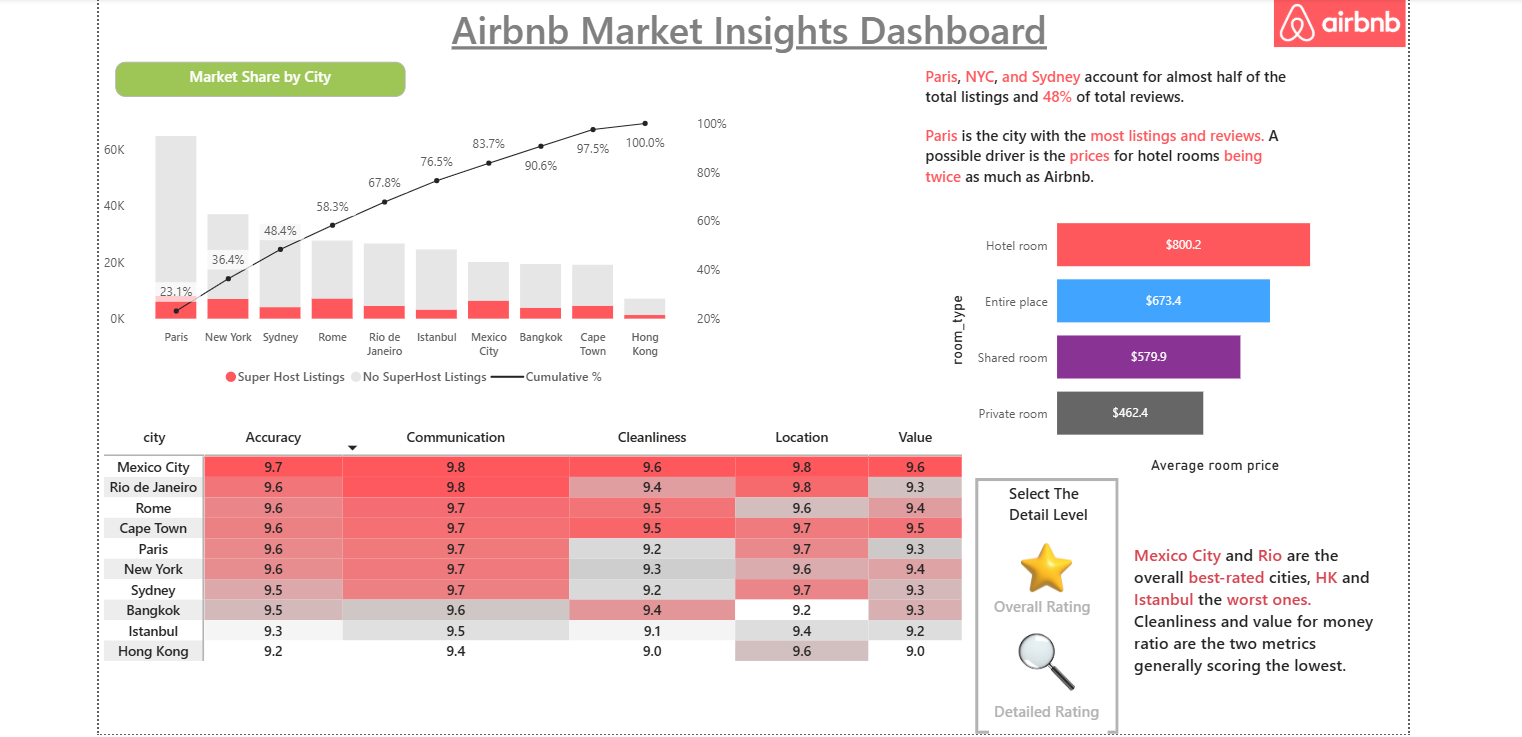

This screenshot's page, from the dashboard's own definition file:
{"tool":"powerbi","page":{"name":"Ratings","canvas":[1280,720],"ordinal":1},"visuals":[{"type":"textbox","box":[340.3,0,657.3,63.1],"z":0},{"type":"image","box":[884.9,517.7,83.5,79.6],"z":0,"group":"g1"},{"type":"image","box":[892.7,616,69.2,66.6],"z":0,"group":"g2"},{"type":"image","box":[1147.2,0,133.1,48],"z":1000},{"type":"textbox","box":[870.5,580.3,116.2,35.2],"z":1000,"group":"g1"},{"type":"textbox","box":[870.5,682.6,116.2,37.8],"z":1000,"group":"g2"},{"type":"textbox","box":[15.4,62.9,283.8,34.7],"z":2000},{"type":"lineStackedColumnComboChart","fields":{"Category":["Listings.city"],"Y":["Listings.Super Host Listings","Listings.No SuperHost Listings"],"Y2":["Listings.Cumulative %"]},"box":[0,106.6,620.2,282.5],"z":3000},{"type":"barChart","fields":{"Category":["Listings.room_type"],"Y":["Listings.Average room price"]},"box":[827.1,166.3,425.1,303.7],"z":4000},{"type":"textbox","box":[803.9,61.6,363.4,142.5],"z":5000},{"type":"shape","box":[857.5,470,140.3,250.2],"z":6000},{"type":"textbox","box":[885,470,182.2,57.8],"z":7000},{"type":"pivotTable","fields":{"Rows":["Listings.city"],"Values":["Listings.Accuracy","Listings.Communication","Listings.Cleanliness","Listings.Location","Listings.Value"]},"box":[0,413.6,851.7,306.6],"z":8000},{"type":"group","id":"g1","title":"Group 1","box":[870.5,517.7,115.7,96.9],"z":10000},{"type":"group","id":"g2","title":"Group 2","box":[870.5,616,115.7,104.1],"z":11000},{"type":"textbox","box":[1007.9,527.8,255.9,157.6],"z":12000}]}

Visuals, with their boxes on the page's 1280x720 design canvas (x1, y1, x2, y2). These are canvas units, not pixel positions in the 1522x737 screenshot, which may show the page scaled, cropped or inside an application window:
textbox: region(340, 0, 998, 63)
image: region(885, 518, 968, 597)
image: region(893, 616, 962, 683)
image: region(1147, 0, 1280, 48)
textbox: region(870, 580, 987, 616)
textbox: region(870, 683, 987, 720)
textbox: region(15, 63, 299, 98)
lineStackedColumnComboChart - Listings.city x Listings.Super Host Listings: region(0, 107, 620, 389)
barChart - Listings.room_type x Listings.Average room price: region(827, 166, 1252, 470)
textbox: region(804, 62, 1167, 204)
shape: region(858, 470, 998, 720)
textbox: region(885, 470, 1067, 528)
pivotTable - Listings.city x Listings.Accuracy: region(0, 414, 852, 720)
"Group 1" group: region(870, 518, 986, 615)
"Group 2" group: region(870, 616, 986, 720)
textbox: region(1008, 528, 1264, 685)
